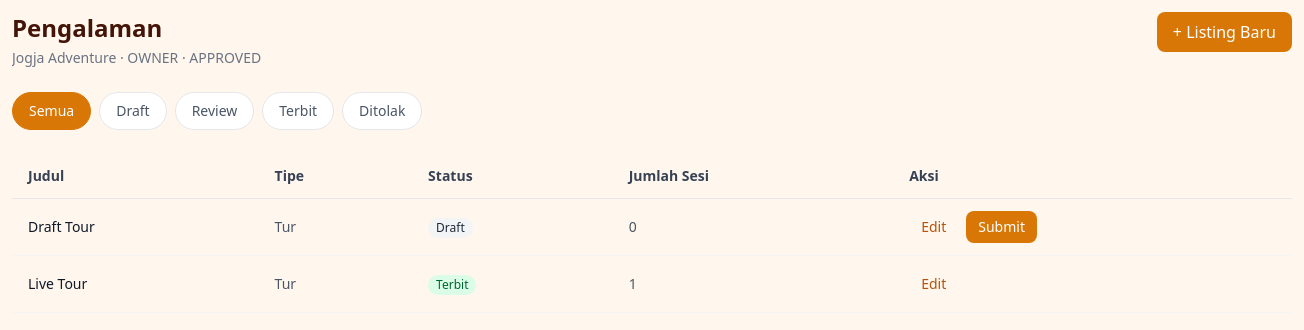
Test case: Partner listings page › sends status filter to server on filter change
Click the button "Terbit" at (298, 111), box [262, 92, 334, 130]
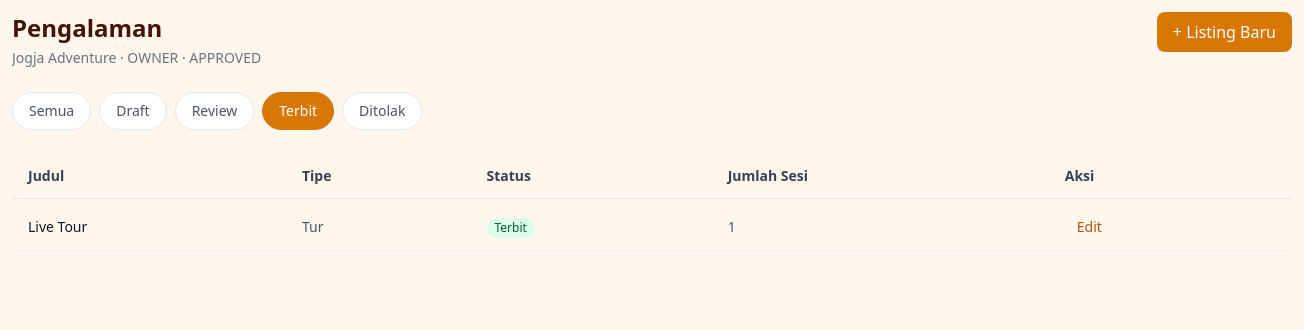
Check: the text "Draft Tour" is not shown
